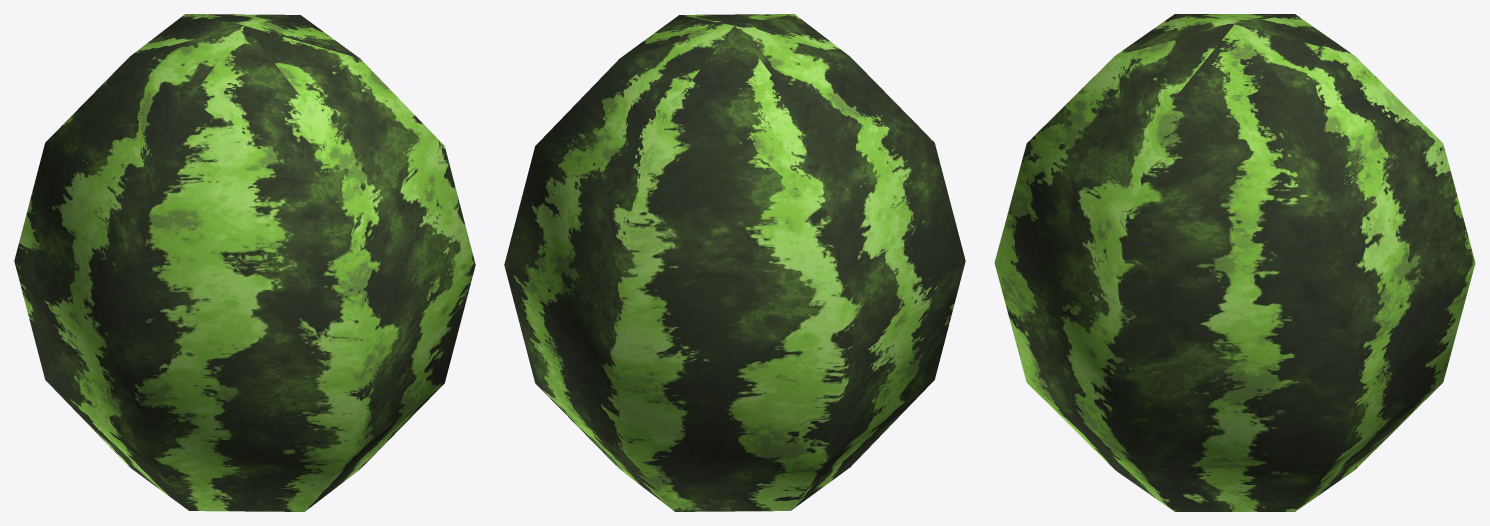
File: Watermelon (Whole).fbx
The picture shows the model from 3 angles, left to right: view 1: azimuth 30°, elevation 25°; view 2: azimuth 150°, elevation 25°; view 3: azimuth 270°, elevation 25°; orthographic projection.
Visible parts, largest first — view 1: Sphere.002; view 2: Sphere.002; view 3: Sphere.002.
Part boxes in pixels (bbox=[...]): Sphere.002: bbox=[14, 14, 475, 511]; Sphere.002: bbox=[504, 14, 965, 511]; Sphere.002: bbox=[994, 14, 1475, 511].
Bounding box in the file's own units: 173 × 229 × 209.
